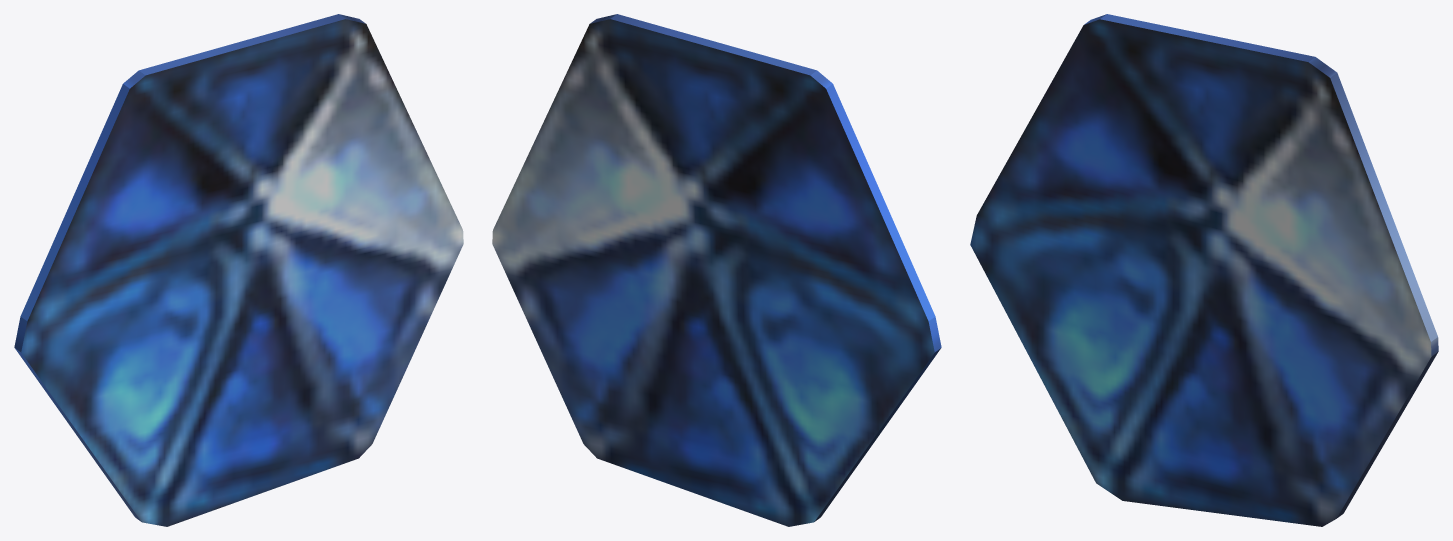
File: Mana.glb
The picture shows the model from 3 angles, left to right: view 1: azimuth 30°, elevation 25°; view 2: azimuth 150°, elevation 25°; view 3: azimuth 330°, elevation 25°; orthographic projection. The views are drawn at different scales.
Visible parts, largest first — view 1: Circle.002; view 2: Circle.002; view 3: Circle.002.
Part boxes in pixels (x1,y1,x2,y2): Circle.002: (14,14,463,526); Circle.002: (492,14,941,526); Circle.002: (970,14,1438,526).
Bounding box in the file's own units: 2.24 × 2.25 × 0.0606.
1 material, 1 textured.
